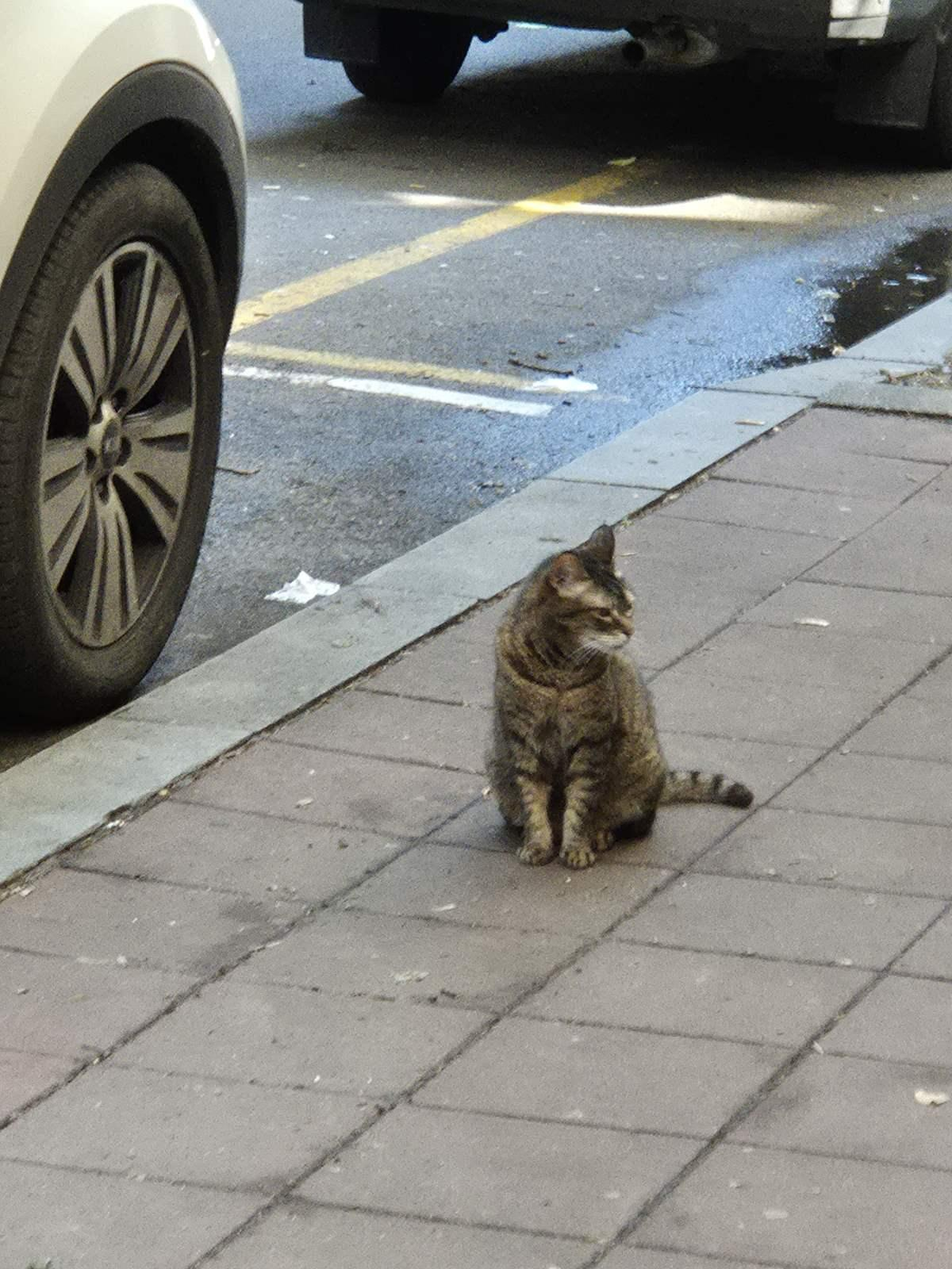macka: (480, 522, 753, 871)
